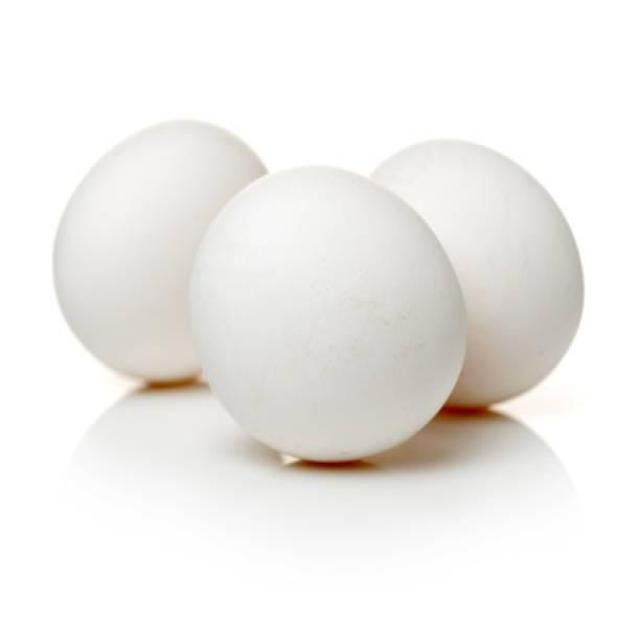Egg: (189, 170, 463, 459), (372, 139, 582, 404), (55, 121, 266, 378)
